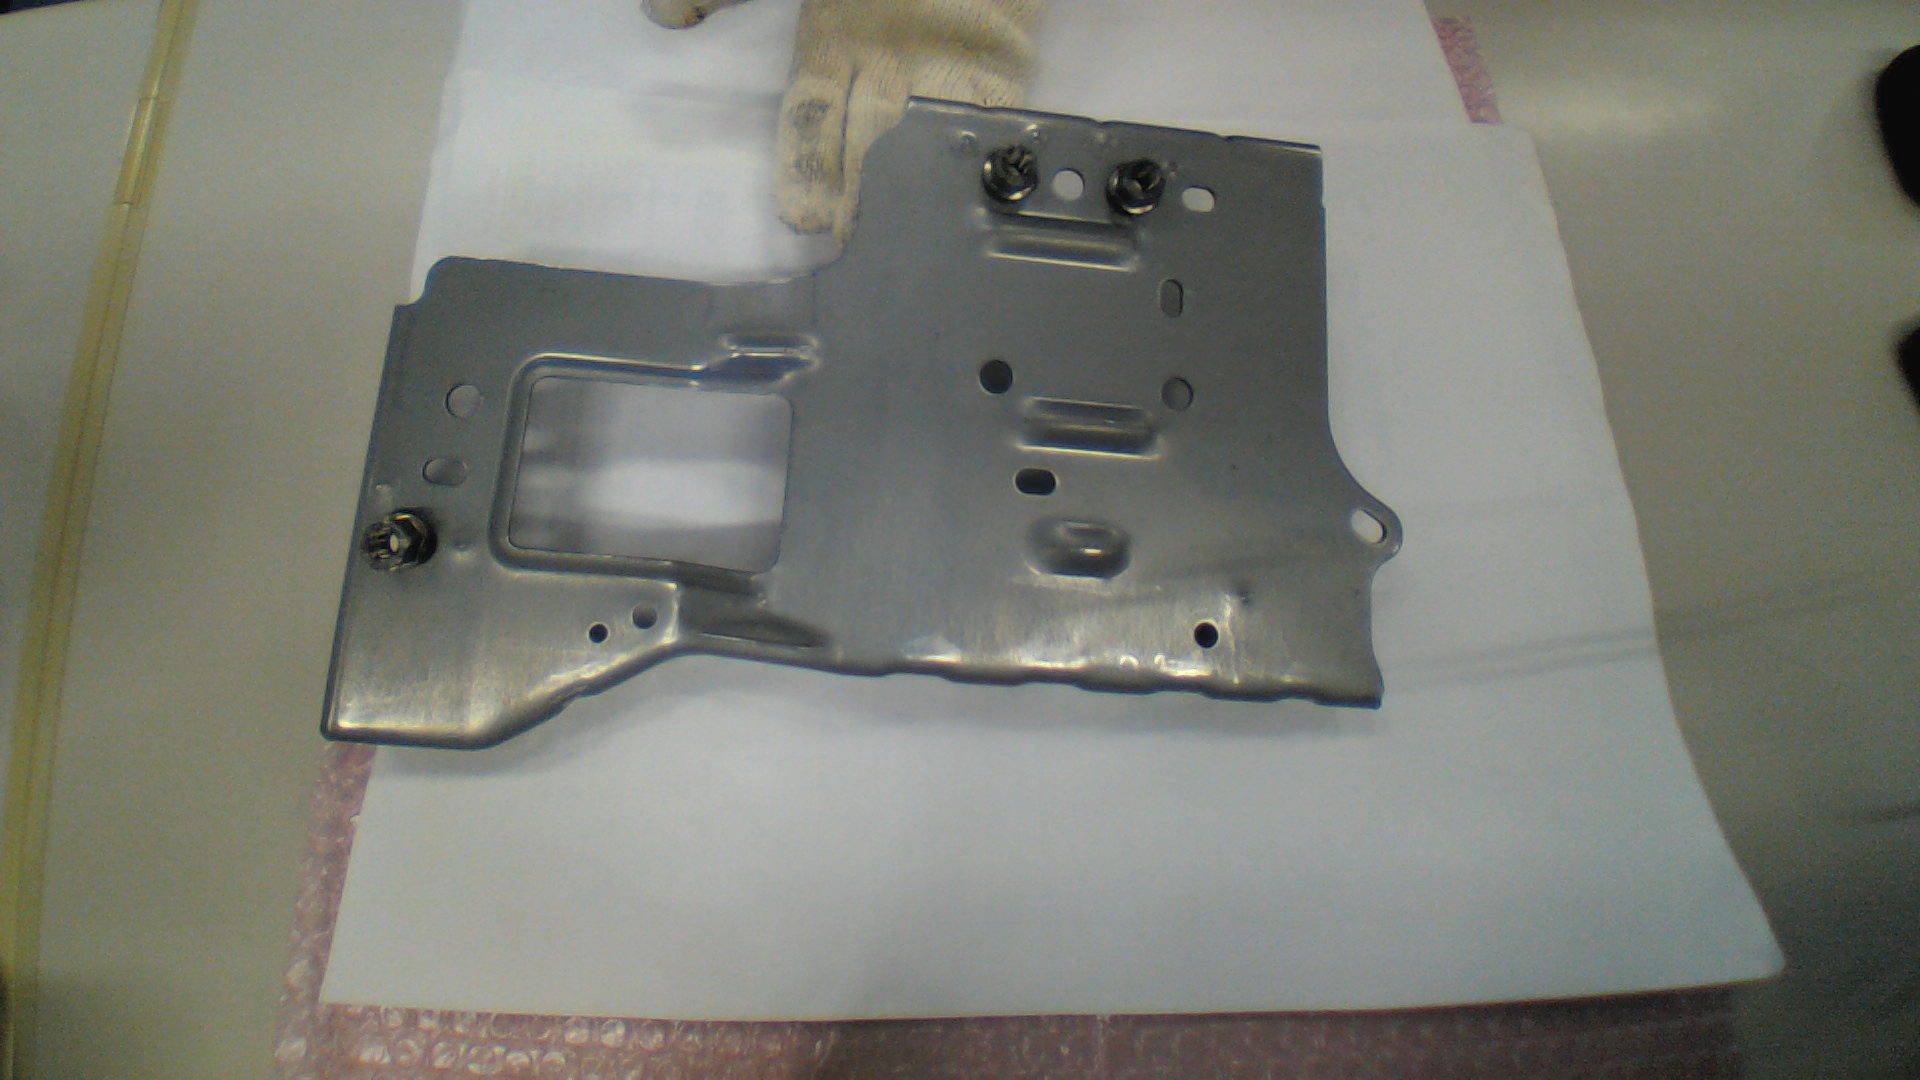dog: (361, 506, 440, 570), (980, 144, 1040, 204), (1108, 157, 1167, 218)
